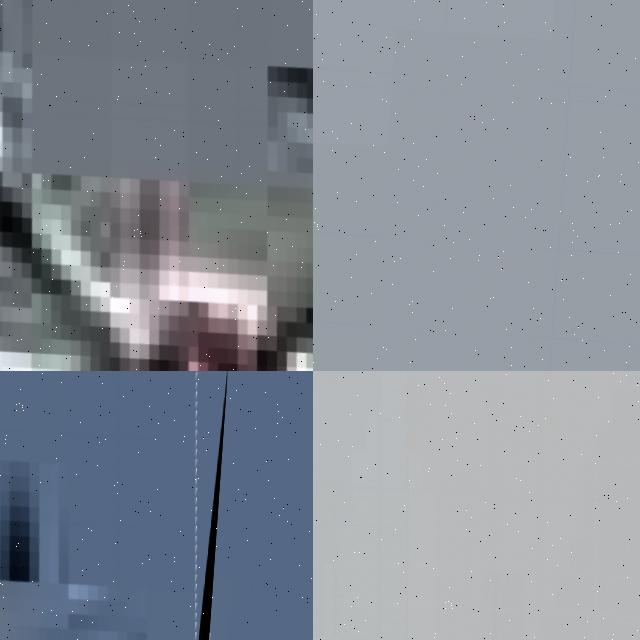drone: (0, 0, 313, 371), (313, 371, 640, 640), (0, 371, 230, 640)
